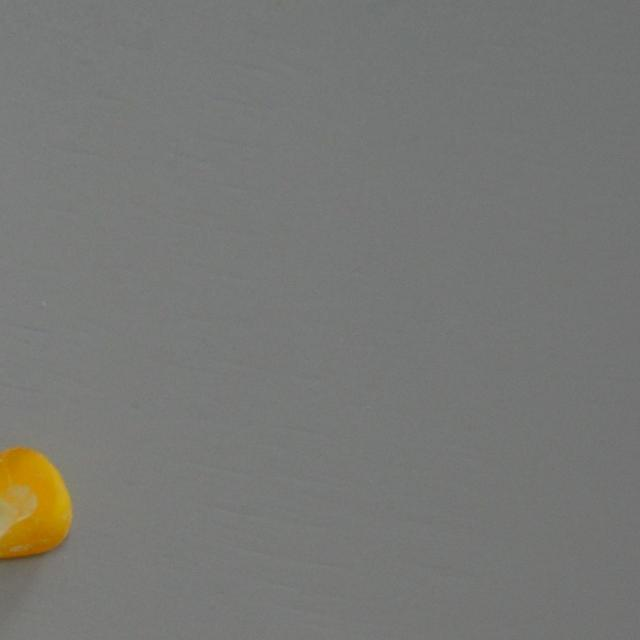pelicula: (0, 444, 70, 559)
